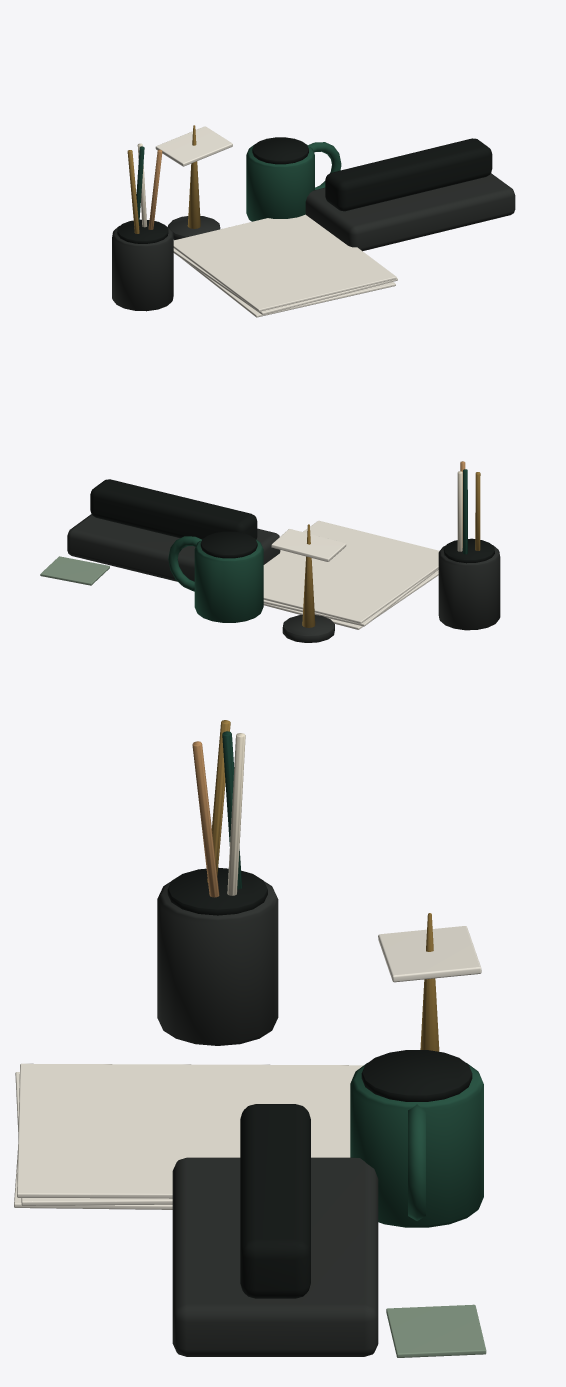
The model's file is pine_hills_front_desk_clutter_v1.glb.
3 renders of one model, top to bottom at view 1: azimuth 30°, elevation 25°; view 2: azimuth 150°, elevation 25°; view 3: azimuth 270°, elevation 25°, orthographic. The views are drawn at different scales.
Parts seen in each view (by area): view 1: MESH_PaperStack_03, MESH_DeskPhoneBase, MESH_DeskPhoneHandset, MESH_PenCup, MESH_CoffeeMug, MESH_ReceiptOnSpike, MESH_CoffeeMugOpening, MESH_PenCupOpening, MESH_PaperStack_01, MESH_PaperStack_02, MESH_ReceiptSpike, MESH_ReceiptSpikeBase (+3 smaller); view 2: MESH_PaperStack_03, MESH_DeskPhoneHandset, MESH_DeskPhoneBase, MESH_CoffeeMug, MESH_PenCup, MESH_ReceiptOnSpike, MESH_CoffeeMugOpening, MESH_DeskPhoneNote, MESH_ReceiptSpikeBase, MESH_PenCupOpening, MESH_ReceiptSpike, MESH_CoffeeMugHandle (+5 smaller); view 3: MESH_PaperStack_03, MESH_DeskPhoneBase, MESH_PenCup, MESH_CoffeeMug, MESH_DeskPhoneHandset, MESH_CoffeeMugOpening, MESH_DeskPhoneNote, MESH_ReceiptOnSpike, MESH_PenCupOpening, MESH_CoffeeMugHandle, MESH_Pen_04, MESH_Pen_03 (+5 smaller).
Boxes of the visible parts, bbox=[...] form: MESH_PaperStack_03: bbox=[173, 214, 396, 311]; MESH_DeskPhoneBase: bbox=[305, 173, 515, 251]; MESH_DeskPhoneHandset: bbox=[325, 138, 492, 211]; MESH_PenCup: bbox=[112, 226, 173, 311]; MESH_CoffeeMug: bbox=[246, 144, 314, 221]; MESH_ReceiptOnSpike: bbox=[155, 126, 232, 166]; MESH_CoffeeMugOpening: bbox=[252, 137, 308, 164]; MESH_PenCupOpening: bbox=[117, 219, 168, 243]; MESH_PaperStack_01: bbox=[182, 259, 395, 317]; MESH_PaperStack_02: bbox=[173, 248, 397, 314]; MESH_ReceiptSpike: bbox=[187, 125, 200, 228]; MESH_ReceiptSpikeBase: bbox=[168, 216, 220, 240]; MESH_PaperStack_03: bbox=[263, 520, 439, 623]; MESH_DeskPhoneHandset: bbox=[90, 479, 257, 539]; MESH_DeskPhoneBase: bbox=[67, 514, 280, 581]; MESH_CoffeeMug: bbox=[194, 539, 263, 622]; MESH_PenCup: bbox=[438, 545, 500, 630]; MESH_ReceiptOnSpike: bbox=[271, 529, 346, 561]; MESH_CoffeeMugOpening: bbox=[200, 531, 257, 558]; MESH_DeskPhoneNote: bbox=[40, 556, 109, 585]; MESH_ReceiptSpikeBase: bbox=[282, 615, 334, 642]; MESH_PenCupOpening: bbox=[443, 538, 494, 563]; MESH_ReceiptSpike: bbox=[302, 524, 315, 627]; MESH_CoffeeMugHandle: bbox=[168, 536, 201, 591]; MESH_PaperStack_03: bbox=[17, 1063, 363, 1198]; MESH_DeskPhoneBase: bbox=[172, 1157, 378, 1356]; MESH_PenCup: bbox=[157, 881, 278, 1045]; MESH_CoffeeMug: bbox=[350, 1063, 483, 1227]; MESH_DeskPhoneHandset: bbox=[240, 1104, 310, 1298]; MESH_CoffeeMugOpening: bbox=[361, 1050, 472, 1101]; MESH_DeskPhoneNote: bbox=[386, 1304, 486, 1357]; MESH_ReceiptOnSpike: bbox=[378, 926, 481, 982]; MESH_PenCupOpening: bbox=[167, 867, 267, 915]; MESH_CoffeeMugHandle: bbox=[408, 1104, 425, 1220]; MESH_Pen_04: bbox=[227, 733, 245, 895]; MESH_Pen_03: bbox=[192, 741, 219, 897].
Size of the model in its own units: 0.72 by 0.25 by 0.4185.
